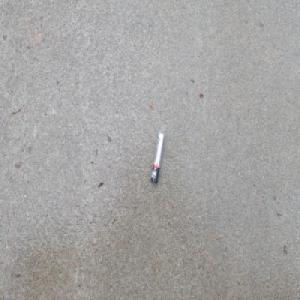Battery: (150, 130, 164, 184)
